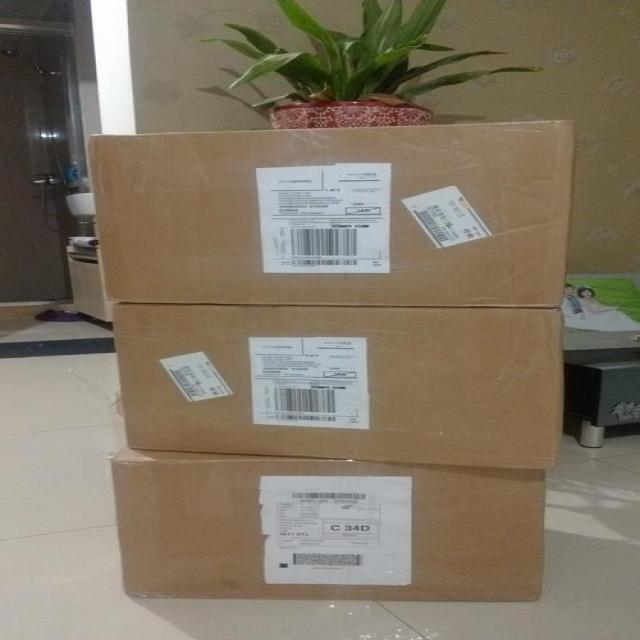box: (87, 119, 576, 308), (110, 304, 563, 469), (113, 448, 548, 604)
